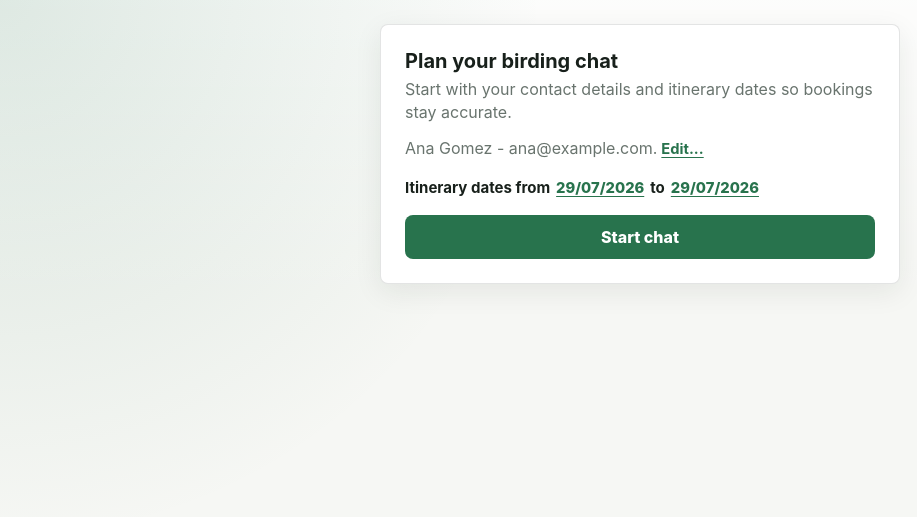
Test case: CustomerContextForm › blocks submission when reservation email is invalid
Click the button "Edit...". click: (683, 150)
box: [661, 139, 704, 161]
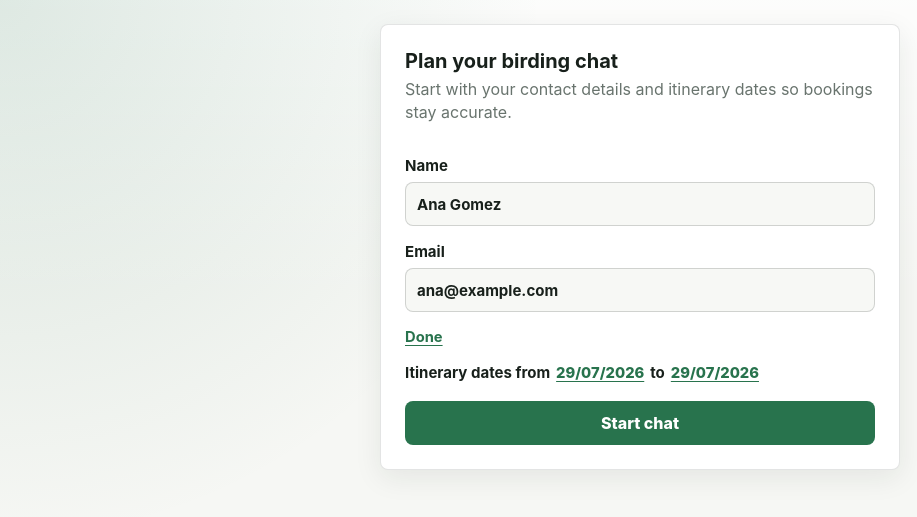
Replace the text in the field labelled "Email" with "not-an-email". click: (640, 290)
box: [405, 268, 875, 312]
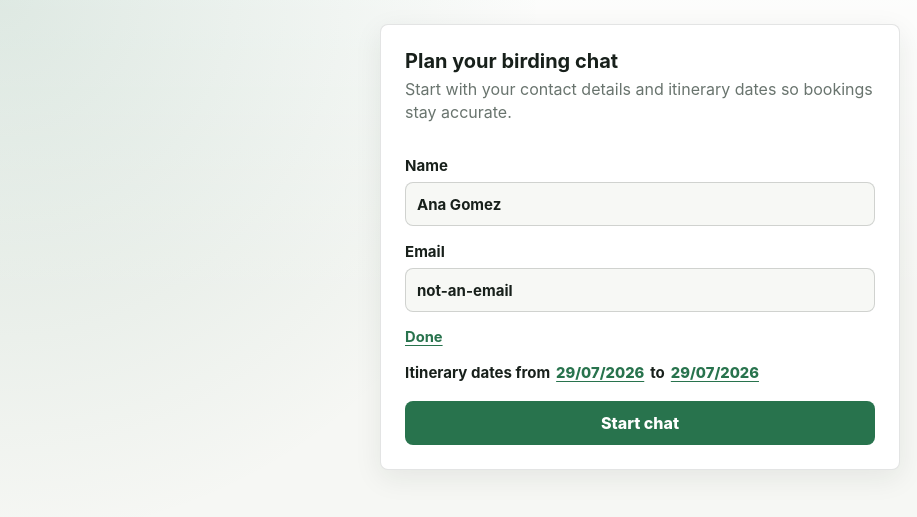
Click the button "Start chat". click: (640, 423)
box: [405, 401, 875, 445]
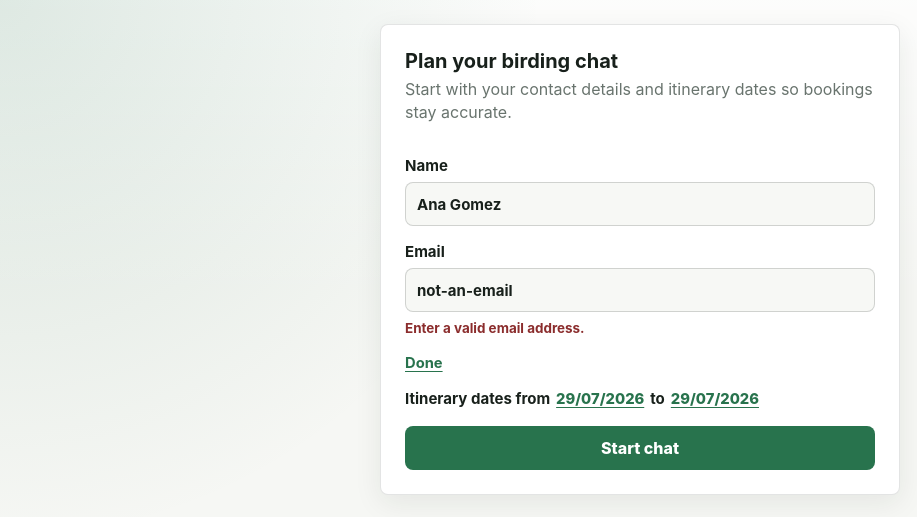
Expected: the text "Enter a valid email address." is shown, [405, 320, 585, 336]
